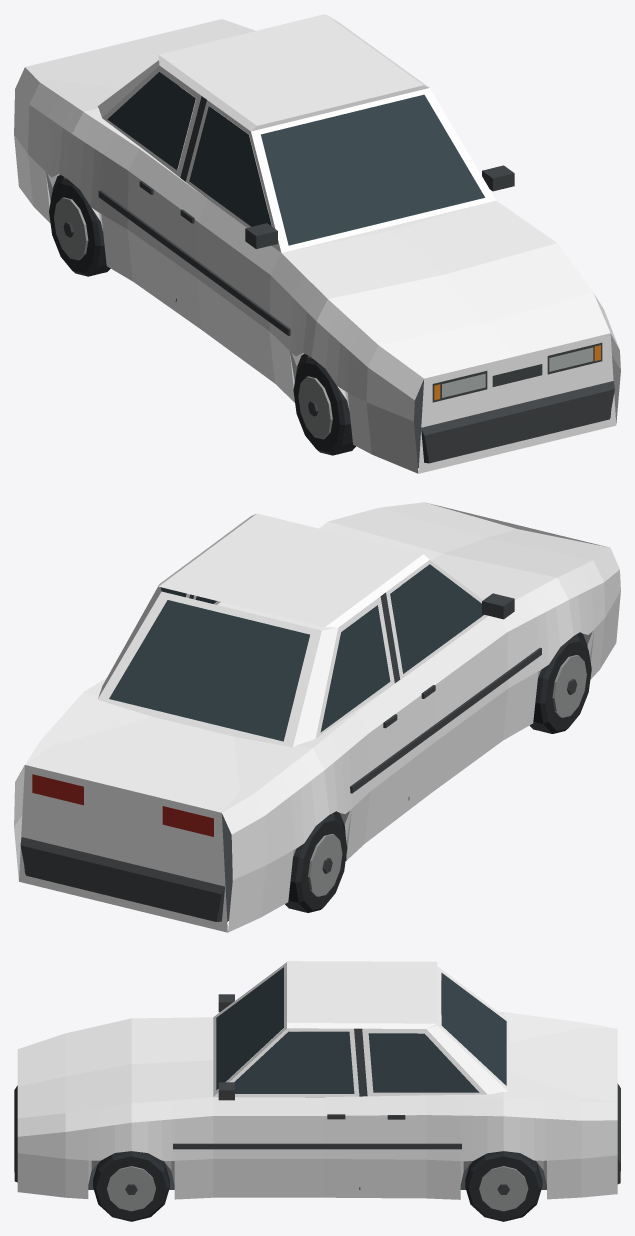
The model's file is tomoe_hatsukaze.glb.
3 renders of one model, top to bottom at view 1: azimuth 30°, elevation 25°; view 2: azimuth 150°, elevation 25°; view 3: azimuth 270°, elevation 25°, orthographic. The views are drawn at different scales.
Visible parts, largest first — view 1: tomoe_hatsukaze; view 2: tomoe_hatsukaze; view 3: tomoe_hatsukaze.
Part boxes in pixels (bbox=[...]): tomoe_hatsukaze: bbox=[14, 14, 620, 473]; tomoe_hatsukaze: bbox=[14, 502, 620, 932]; tomoe_hatsukaze: bbox=[14, 961, 620, 1221].
Bounding box in the file's own units: 1.69 × 1.49 × 4.45.
8 materials, 1 textured.
